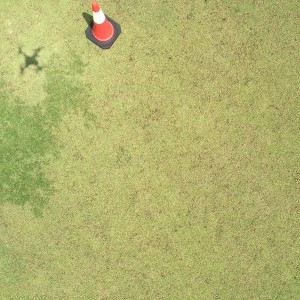traffic cone: (85, 1, 121, 49)
